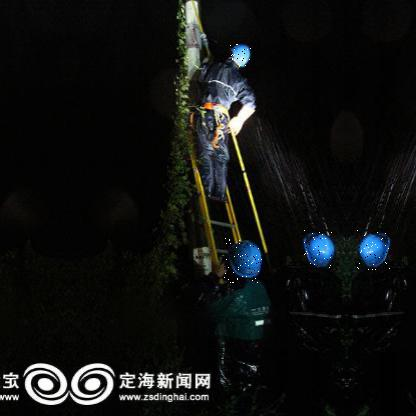safetyhelmet: (224, 238, 264, 284), (357, 230, 391, 271), (304, 229, 336, 272), (230, 44, 252, 70)
